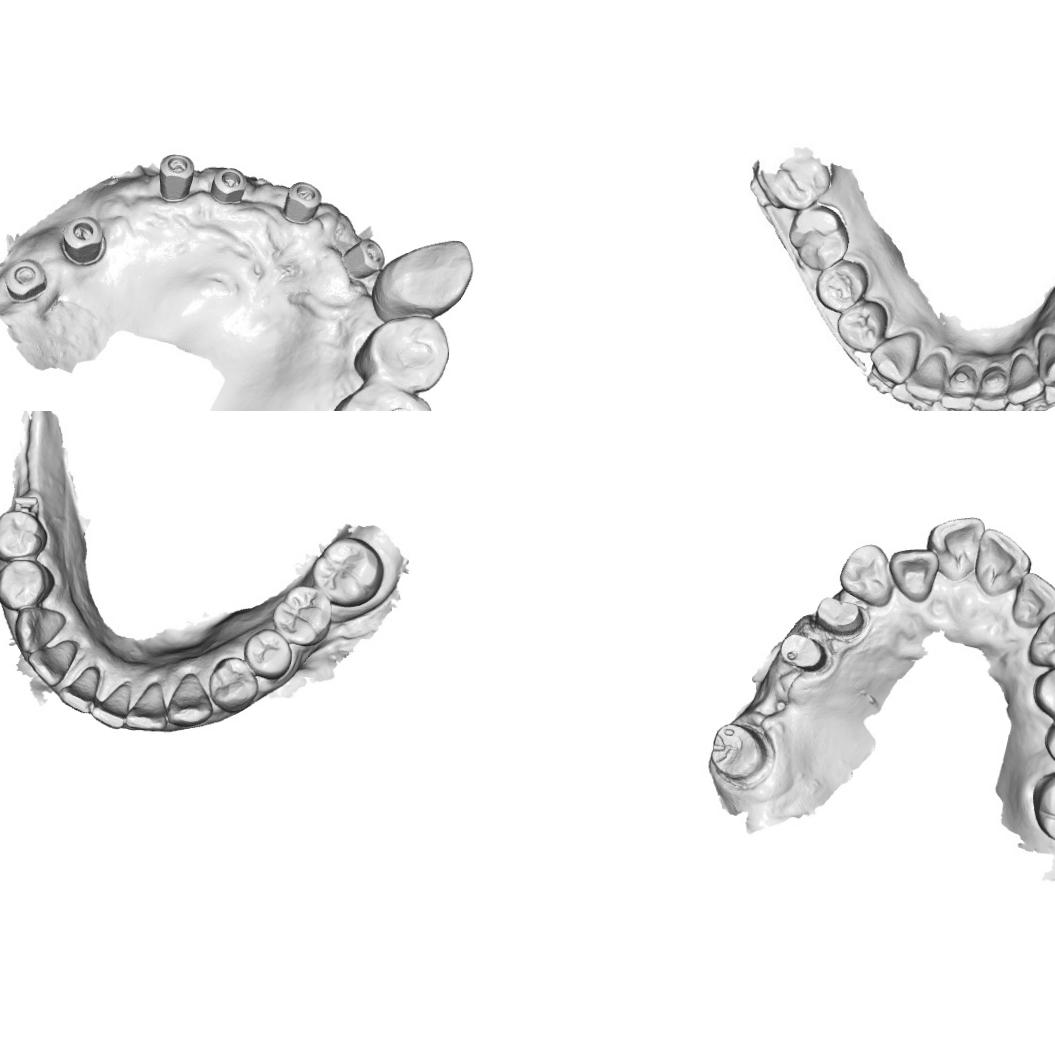canine: (374, 235, 474, 316), (836, 541, 894, 609), (10, 604, 68, 654), (166, 671, 214, 729), (868, 334, 920, 378), (1024, 608, 1055, 668), (1037, 333, 1055, 386)
crown: (707, 720, 776, 786), (808, 592, 872, 641), (778, 630, 834, 677)
implant: (55, 213, 104, 260), (155, 152, 193, 204), (5, 256, 46, 300), (342, 236, 386, 276), (283, 178, 324, 218), (207, 164, 246, 203)
incisor: (972, 526, 1032, 598), (924, 514, 986, 582), (888, 547, 940, 604), (1010, 569, 1055, 631), (905, 348, 955, 402), (27, 636, 77, 686), (59, 665, 104, 715), (125, 682, 168, 734), (1007, 352, 1051, 402), (974, 359, 1016, 411), (937, 362, 979, 411), (91, 682, 133, 730)
molar: (310, 535, 384, 606), (270, 584, 332, 646), (792, 204, 847, 266), (323, 381, 435, 411), (1030, 766, 1055, 843)
premolar: (350, 314, 450, 392), (0, 556, 57, 611), (205, 654, 258, 710), (0, 508, 49, 563), (835, 302, 890, 350), (816, 260, 868, 310), (243, 630, 292, 682), (1030, 658, 1055, 721)
